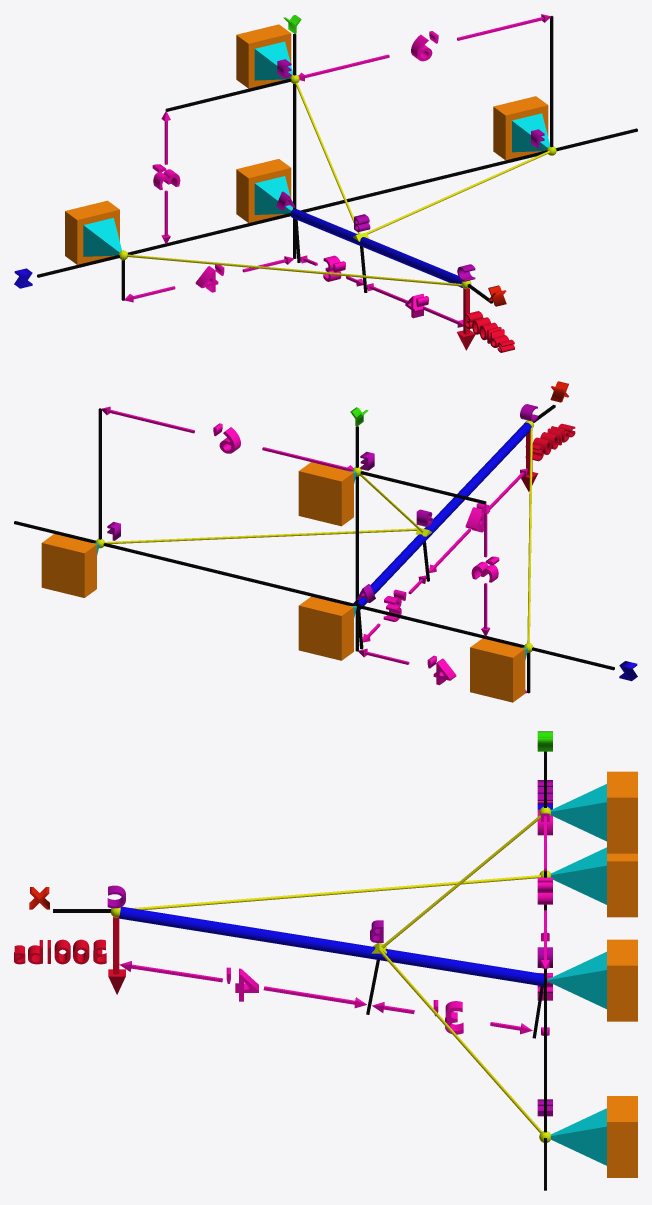
The model's file is Mech003Q3.glb.
3 renders of one model, top to bottom at view 1: azimuth 30°, elevation 25°; view 2: azimuth 150°, elevation 25°; view 3: azimuth 270°, elevation 25°, orthographic. The views are drawn at different scales.
Parts seen in each view (by area): view 1: Cube.005, Cube, Cylinder, Cube.002, Cube.001, Cube.003, Cone.003, Cone, Cone.002, Cone.001, Cylinder.001, Text.005 (+5 smaller); view 2: Cube.003, Cube.001, Cube, Cube.002, Cube.005, Cylinder, Cylinder.004, Text.005, Cube.015, Cylinder.001, Cube.006, Cube.010 (+4 smaller); view 3: Cylinder, Cube.001, Cube.002, Cube, Cube.003, Cone, Cone.001, Cone.002, Cone.003, Text.005, Cylinder.001, Cylinder.004 (+1 smaller).
Boxes of the visible parts, <box> form: Cube.005: <box>37,128,637,277</box>; Cube: <box>493,96,548,160</box>; Cylinder: <box>290,209,463,288</box>; Cube.002: <box>236,159,291,222</box>; Cube.001: <box>236,24,291,88</box>; Cube.003: <box>65,200,119,264</box>; Cone.003: <box>83,218,121,256</box>; Cone: <box>254,176,292,214</box>; Cone.002: <box>254,41,292,80</box>; Cone.001: <box>512,113,549,152</box>; Cylinder.001: <box>126,254,462,286</box>; Text.005: <box>465,311,514,352</box>; Cube.003: <box>470,638,525,702</box>; Cube.001: <box>298,462,353,526</box>; Cube: <box>41,534,96,597</box>; Cube.002: <box>298,596,353,660</box>; Cube.005: <box>14,521,614,670</box>; Cylinder: <box>353,422,531,610</box>; Cylinder.004: <box>104,528,417,543</box>; Text.005: <box>525,423,575,461</box>; Cube.015: <box>355,426,358,651</box>; Cylinder.001: <box>527,426,532,642</box>; Cube.006: <box>98,408,101,539</box>; Cube.010: <box>360,471,486,504</box>; Cylinder: <box>119,906,543,986</box>; Cube.001: <box>607,771,637,853</box>; Cube.002: <box>607,939,637,1021</box>; Cube: <box>607,1096,637,1177</box>; Cube.003: <box>607,853,637,917</box>; Cone: <box>547,951,606,1009</box>; Cone.001: <box>551,1108,606,1165</box>; Cone.002: <box>551,784,606,841</box>; Cone.003: <box>551,847,606,904</box>; Text.005: <box>14,939,106,964</box>; Cylinder.001: <box>132,875,540,909</box>; Cylinder.004: <box>378,949,542,1133</box>.
Bounding box in the file's own units: 4.41 × 1.71 × 3.08.
